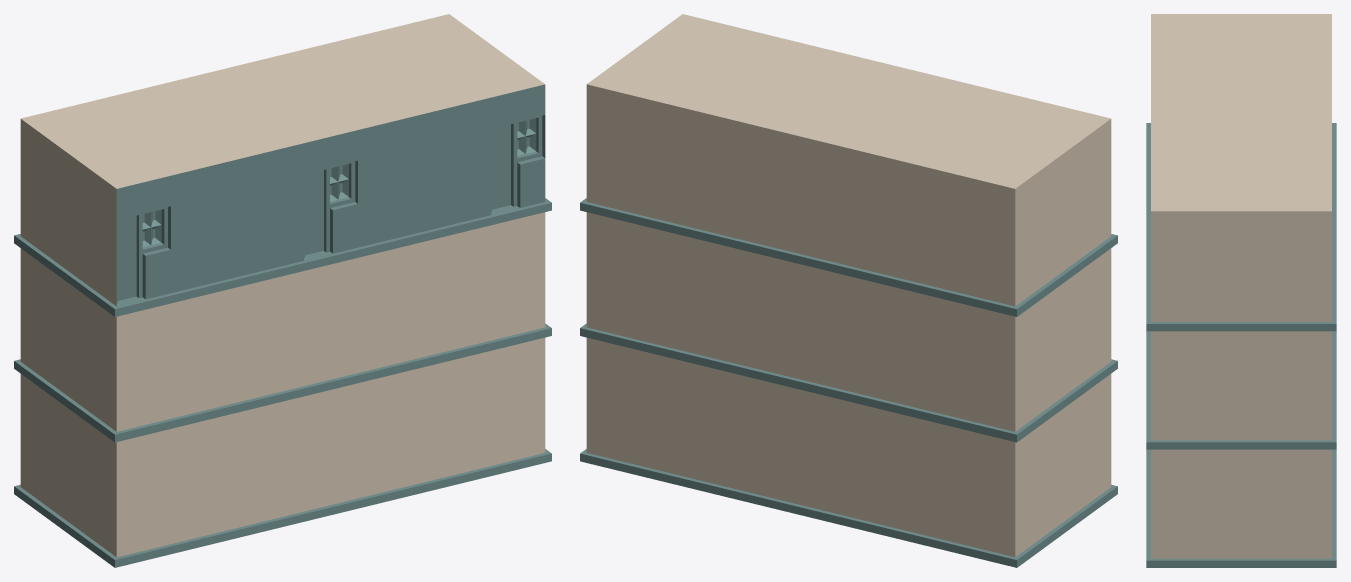
Rendered from NearFieldResidence_RealOpenings.fbx.
3 views of the same model, side by side, from view 1: azimuth 30°, elevation 25°; view 2: azimuth 150°, elevation 25°; view 3: azimuth 270°, elevation 25° (orthographic). The views are drawn at different scales.
Parts seen in each view (by area): view 1: NearFieldResidence_RealOpenings; view 2: NearFieldResidence_RealOpenings; view 3: NearFieldResidence_RealOpenings.
Boxes of the visible parts, left/top/right/bottom form: NearFieldResidence_RealOpenings: left=14, top=14, right=551, bottom=567; NearFieldResidence_RealOpenings: left=580, top=14, right=1117, bottom=567; NearFieldResidence_RealOpenings: left=1146, top=14, right=1336, bottom=567.
Bounding box in the file's own units: 1050 × 864 × 420.
